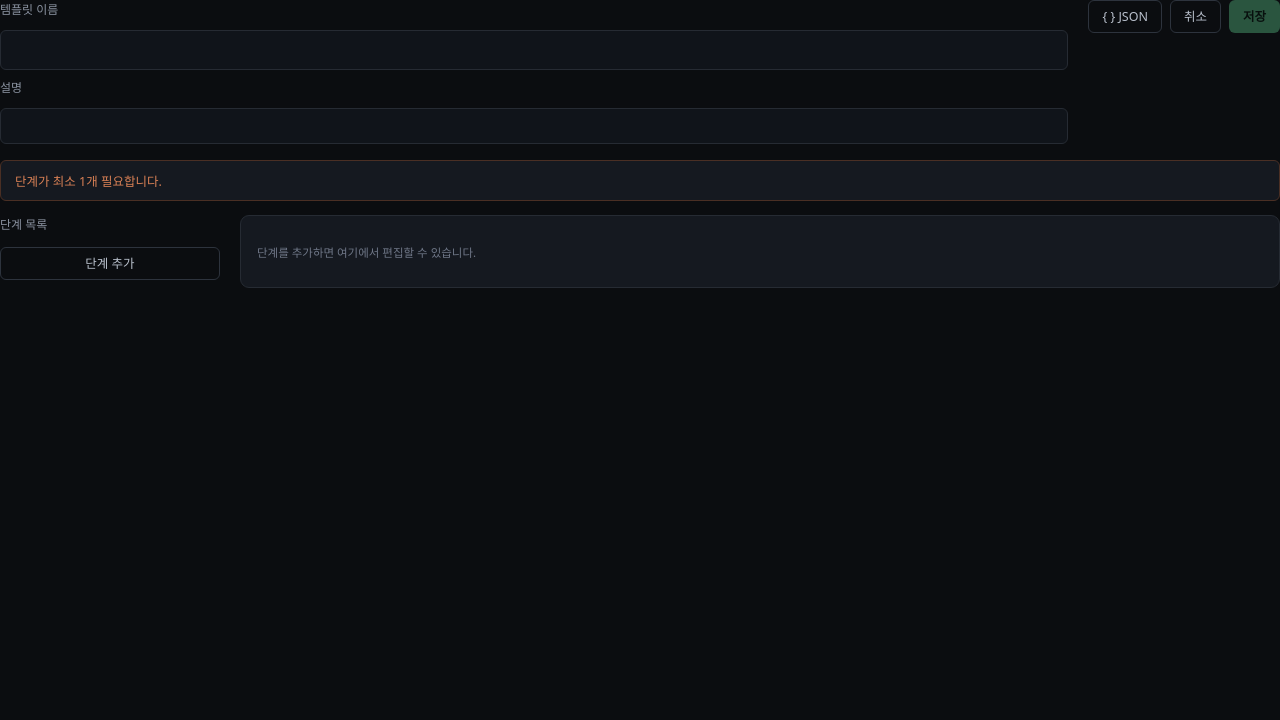
Test: TemplateEditor › adds a new stage when '단계 추가' is clicked
Click the button "단계 추가" at point(110, 264), box left=0, top=247, right=220, bottom=280
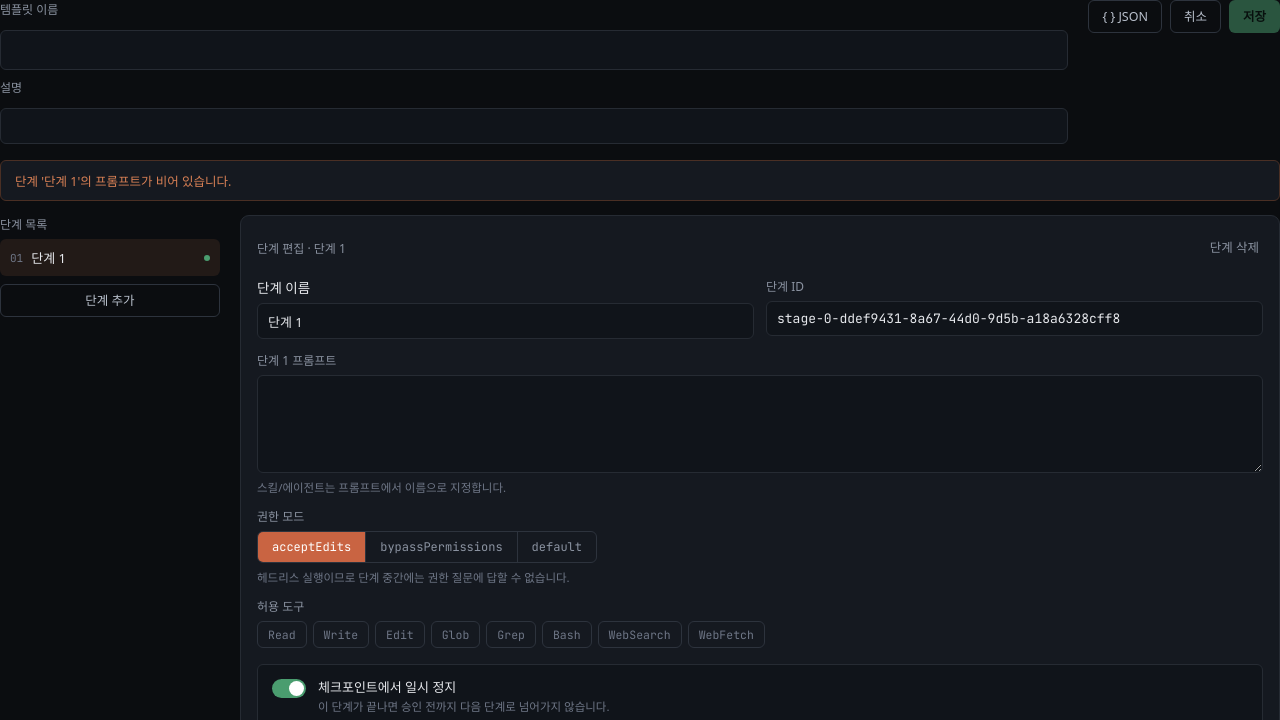
Result: the text box labelled "단계 1 프롬프트" is shown at left=257, top=375, right=1263, bottom=473
